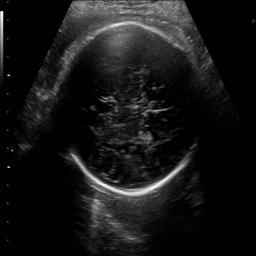normal: (42, 18, 208, 198)
